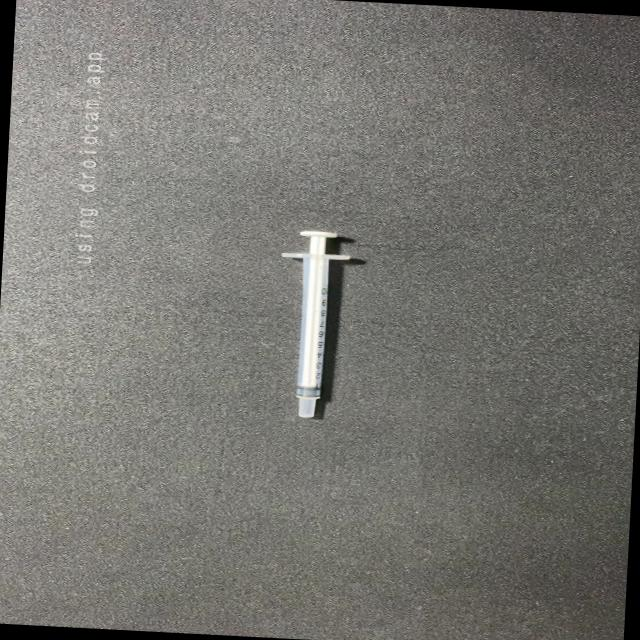syringe: (266, 222, 361, 425)
